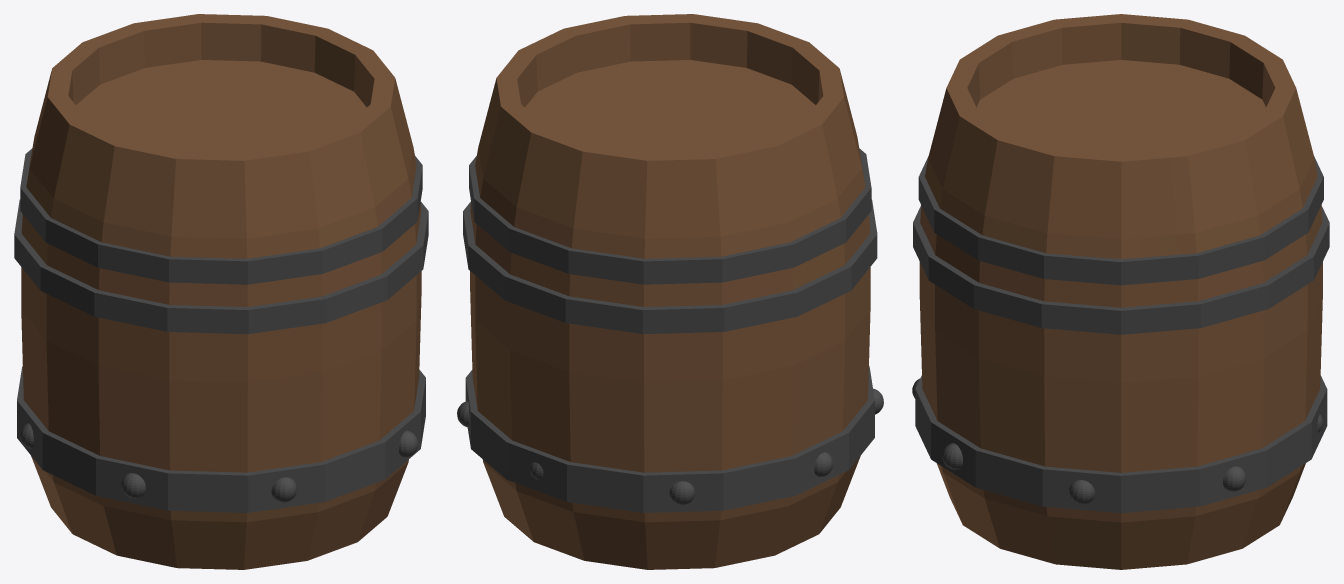
The model's file is Barril.fbx.
3 views of the same model, side by side, from view 1: azimuth 30°, elevation 25°; view 2: azimuth 150°, elevation 25°; view 3: azimuth 270°, elevation 25° (orthographic).
Parts seen in each view (by area): view 1: Barrel, LowerRim, UpperRim.001, UpperRim, Dots; view 2: Barrel, LowerRim, UpperRim.001, UpperRim, Dots; view 3: Barrel, LowerRim, UpperRim.001, UpperRim, Dots.
Part boxes in pixels (box(x1,y1,x2,y2)): Barrel: box(21, 14, 421, 569); LowerRim: box(17, 366, 425, 512); UpperRim.001: box(14, 199, 428, 334); UpperRim: box(20, 148, 422, 284); Dots: box(20, 423, 417, 502); Barrel: box(470, 14, 870, 569); LowerRim: box(465, 366, 874, 512); UpperRim.001: box(463, 199, 877, 334); UpperRim: box(469, 148, 871, 284); Dots: box(457, 388, 883, 505); Barrel: box(919, 14, 1322, 569); LowerRim: box(915, 375, 1327, 513); UpperRim.001: box(913, 205, 1329, 334); UpperRim: box(918, 156, 1323, 285); Dots: box(912, 378, 1322, 504).
Size of the model in its own units: 216 by 234 by 216.
